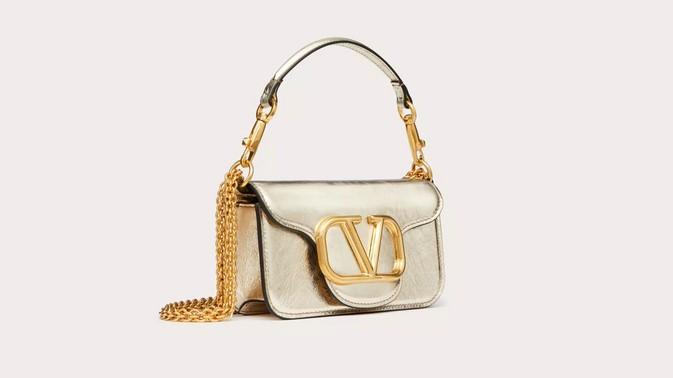VALENTINO: (315, 215, 406, 285)
